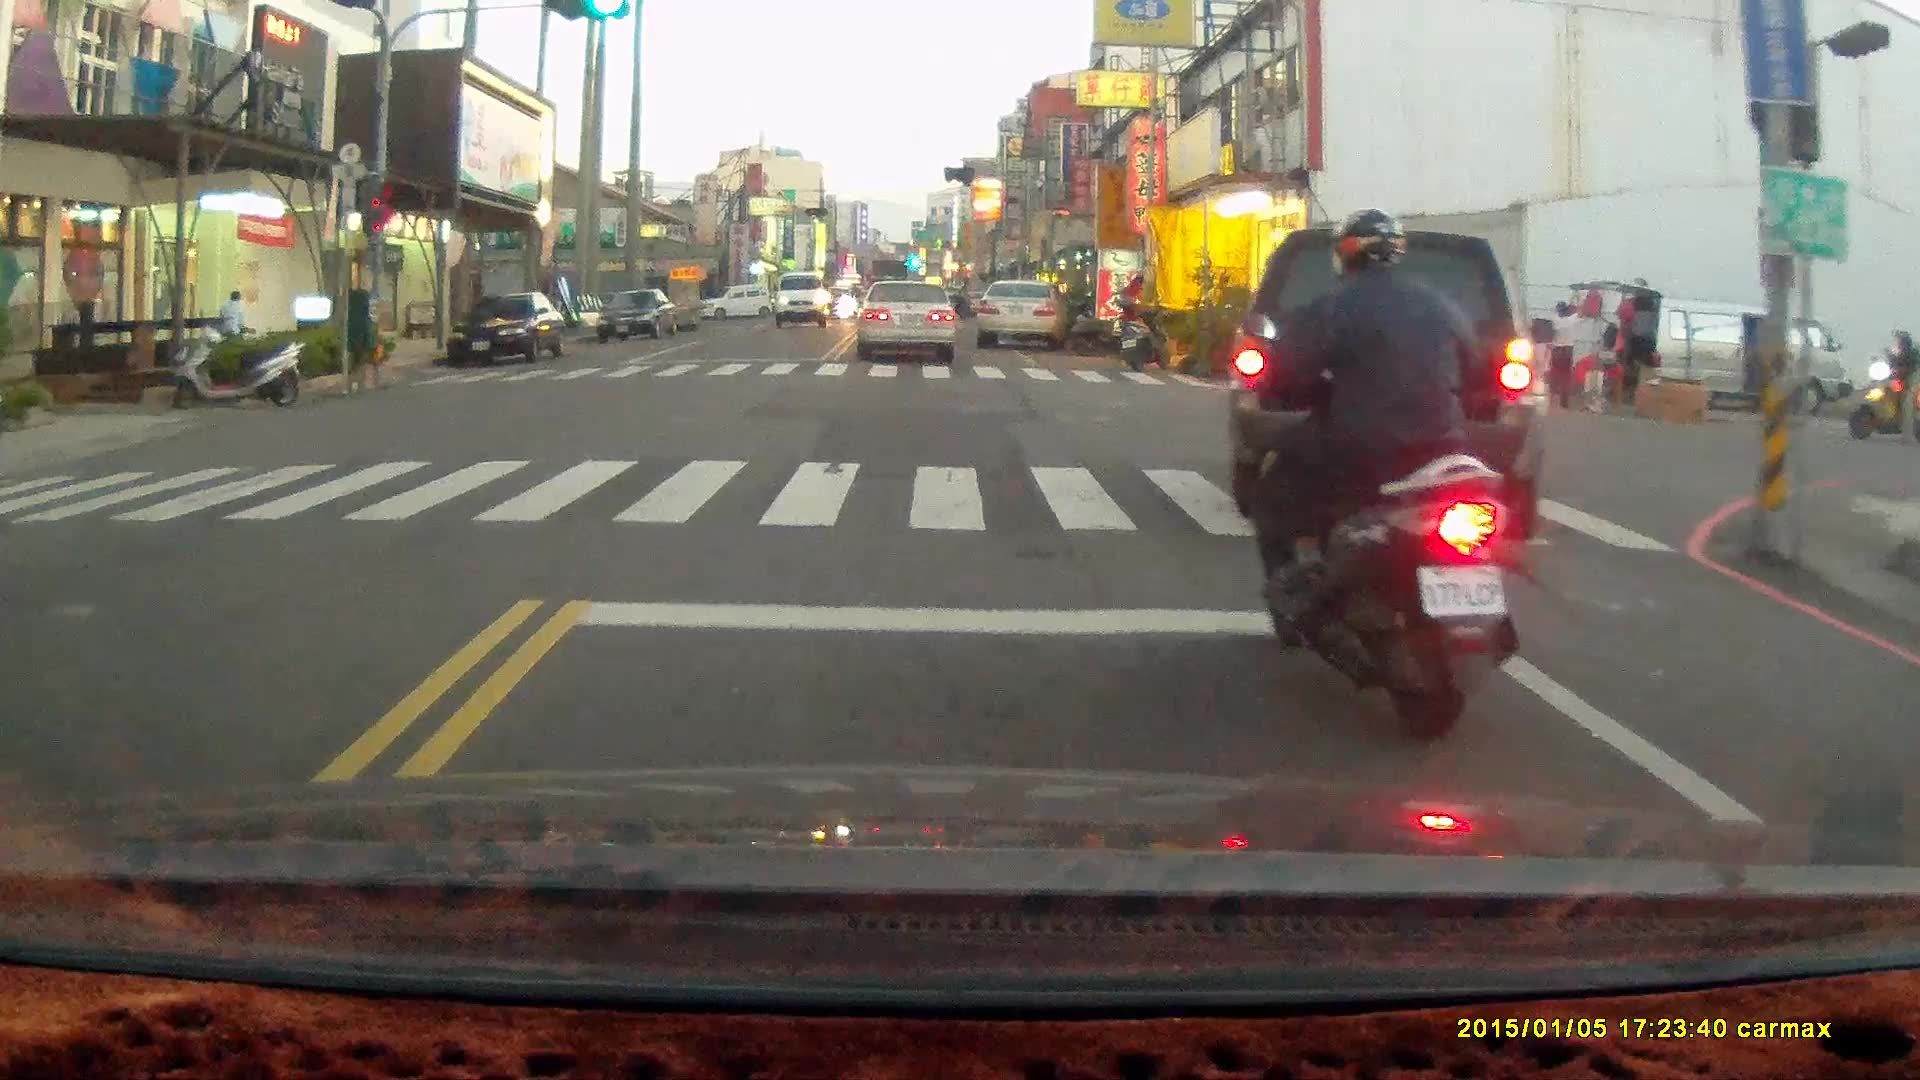pedestrian: (1544, 298, 1581, 412), (1111, 271, 1143, 361), (216, 288, 252, 353)
rider: (1236, 205, 1516, 745), (1843, 329, 1918, 438)
vehicle: (1223, 231, 1560, 540), (1603, 294, 1855, 417), (448, 291, 567, 371), (854, 279, 960, 359), (977, 275, 1067, 351), (596, 286, 679, 342), (773, 270, 829, 329)
